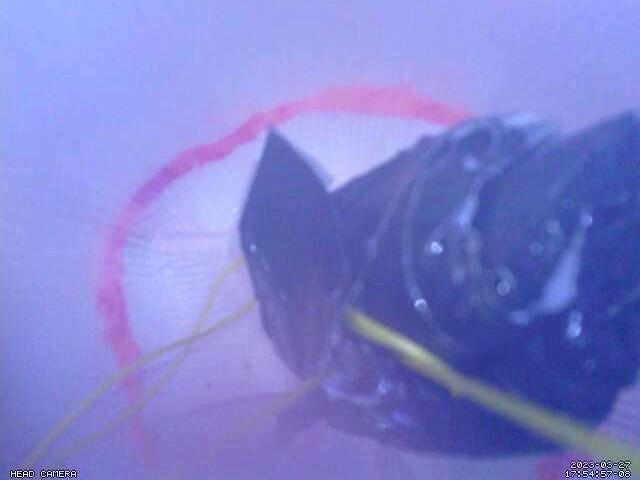head: (95, 82, 477, 480)
